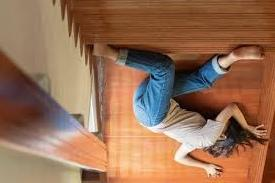fall: (92, 42, 271, 181)
